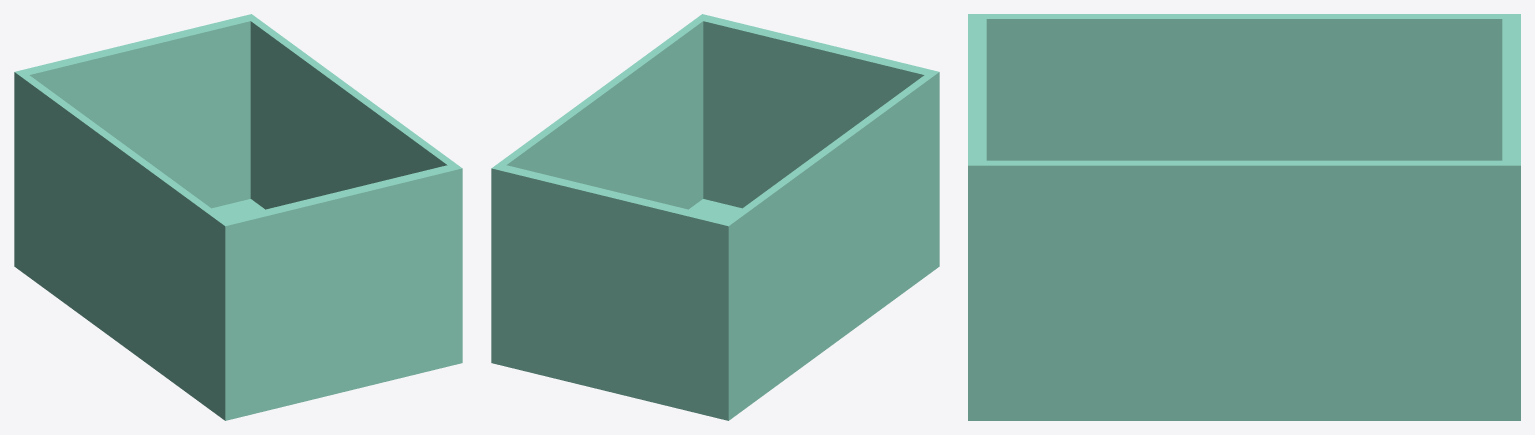
Rendered from Tub.fbx.
3 views of the same model, side by side, from view 1: azimuth 30°, elevation 25°; view 2: azimuth 150°, elevation 25°; view 3: azimuth 270°, elevation 25° (orthographic). The views are drawn at different scales.
Visible parts, largest first — view 1: pCube1; view 2: pCube1; view 3: pCube1.
Part boxes in pixels (<box>): pCube1: <box>14,14,462,420</box>; pCube1: <box>491,14,939,420</box>; pCube1: <box>968,14,1520,420</box>.
Bounding box in the file's own units: 19.4 × 15.21 × 29.88.
